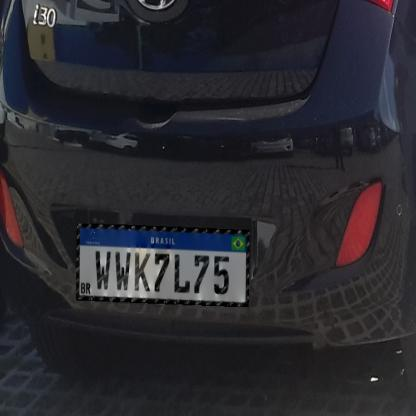PlacaM: (76, 223, 250, 306)
